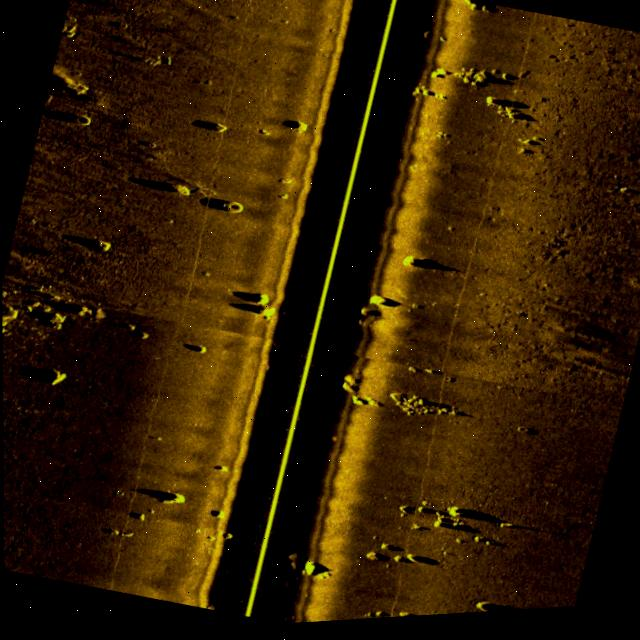mine: (392, 250, 456, 289), (362, 291, 412, 327), (176, 336, 218, 378)
other: (11, 356, 73, 397), (45, 103, 95, 143), (203, 191, 251, 228)
